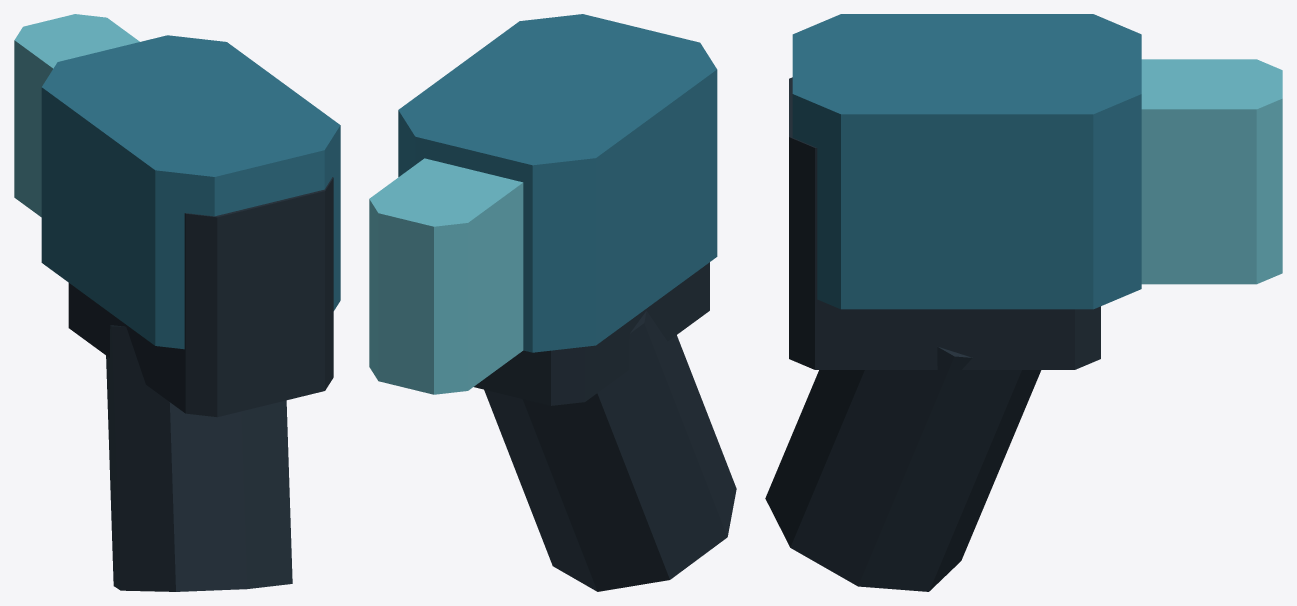
Rendered from enemy_marksman_lod_upper_arm_l.obj.
3 renders of one model, left to right at view 1: azimuth 30°, elevation 25°; view 2: azimuth 150°, elevation 25°; view 3: azimuth 270°, elevation 25°, orthographic. The views are drawn at different scales.
Size of the model in its own units: 0.3584 by 0.7669 by 0.6971.
